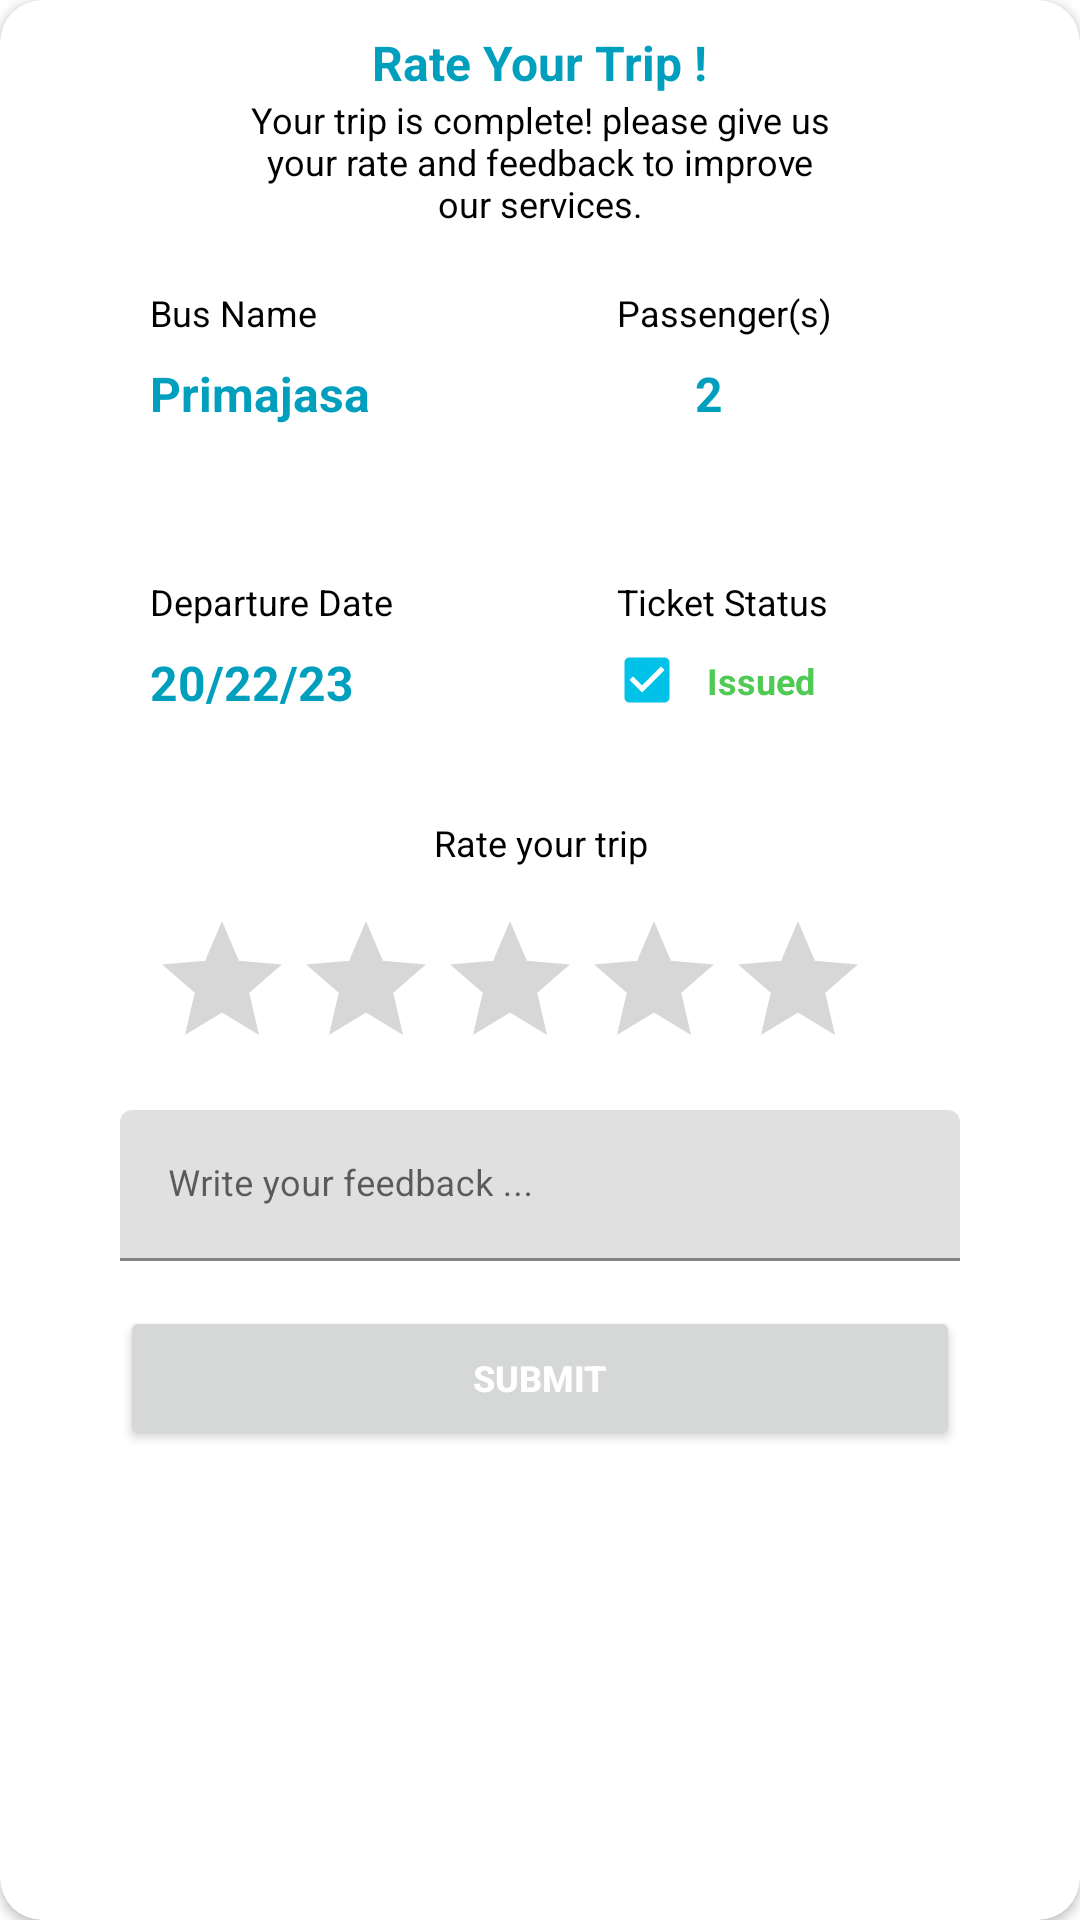

Screen size 1080px×1920px. Icon name, then its center in pixels as [x,y]:
check box: [647,680]
